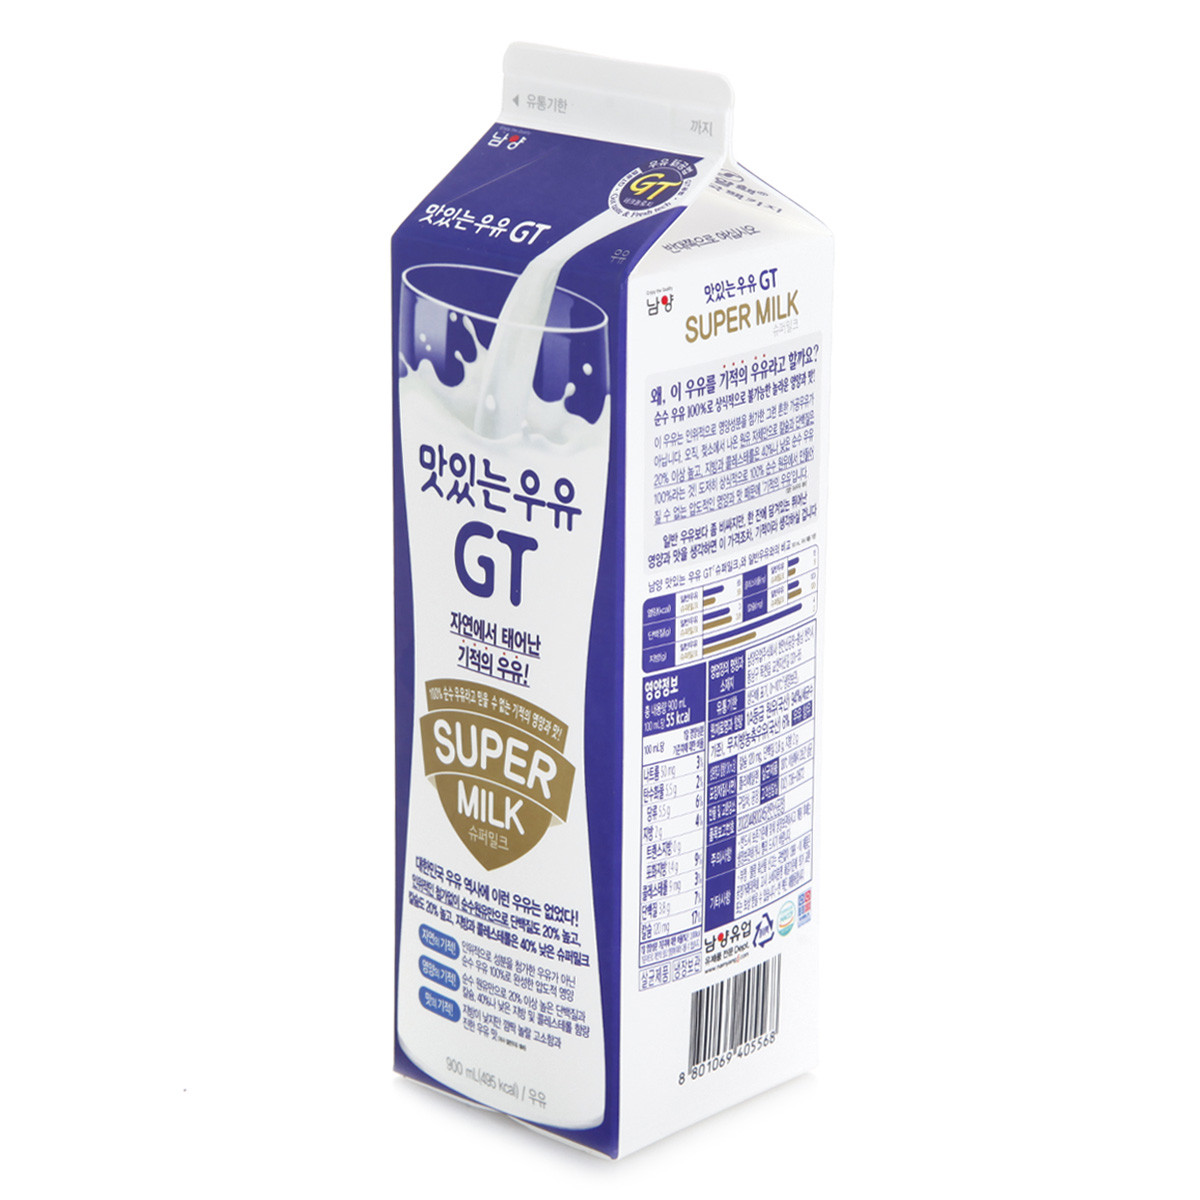milk: (393, 51, 807, 1168)
